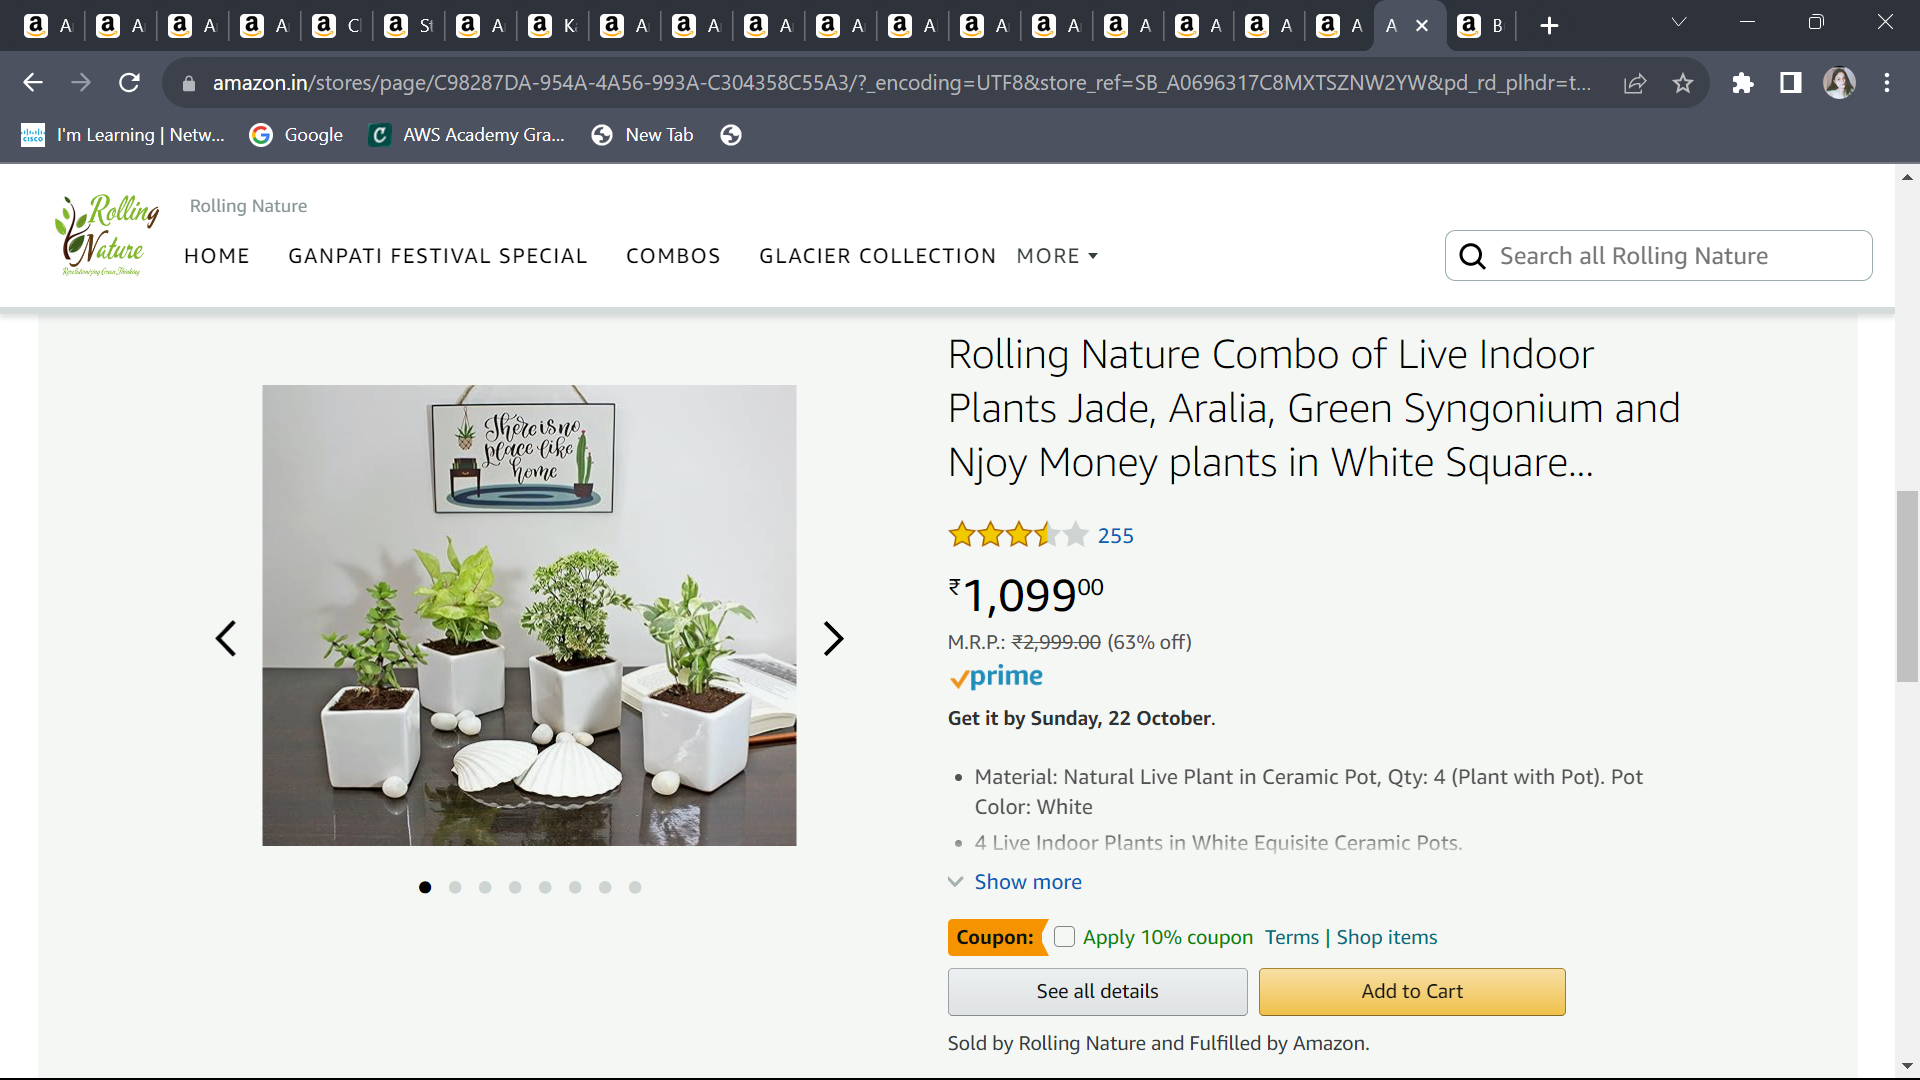Image: (173, 316, 800, 848), (931, 959, 1604, 1027), (732, 944, 765, 1001)
Paragraph: (916, 316, 1705, 513), (928, 765, 1654, 872), (1419, 177, 1902, 293), (156, 222, 1134, 278), (938, 498, 1280, 657), (914, 1009, 1472, 1080), (902, 657, 1263, 753), (919, 914, 1481, 956), (919, 862, 1105, 895)
